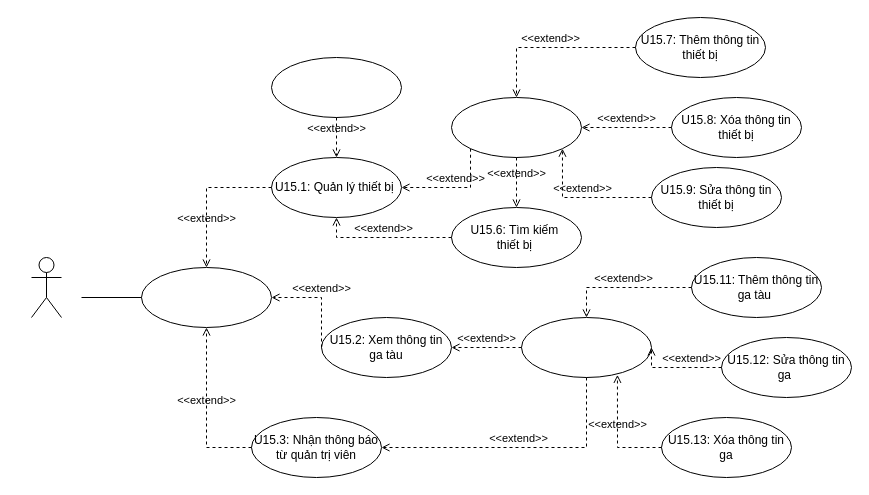
Image size: 869x495. Some labels were removed from this diagram. The centre of each missing label's shape, as x and y in pixels:
Quản lý ga: pixel 46 287
U15.10: Cập nhật thông tin ga: pixel 586 347
U15.4: Xem danh sách các thiết bị: pixel 336 87
U15.5: Cập nhật thông tin thiết bị: pixel 516 127
U15: Quản lý ga tàu: pixel 206 297
